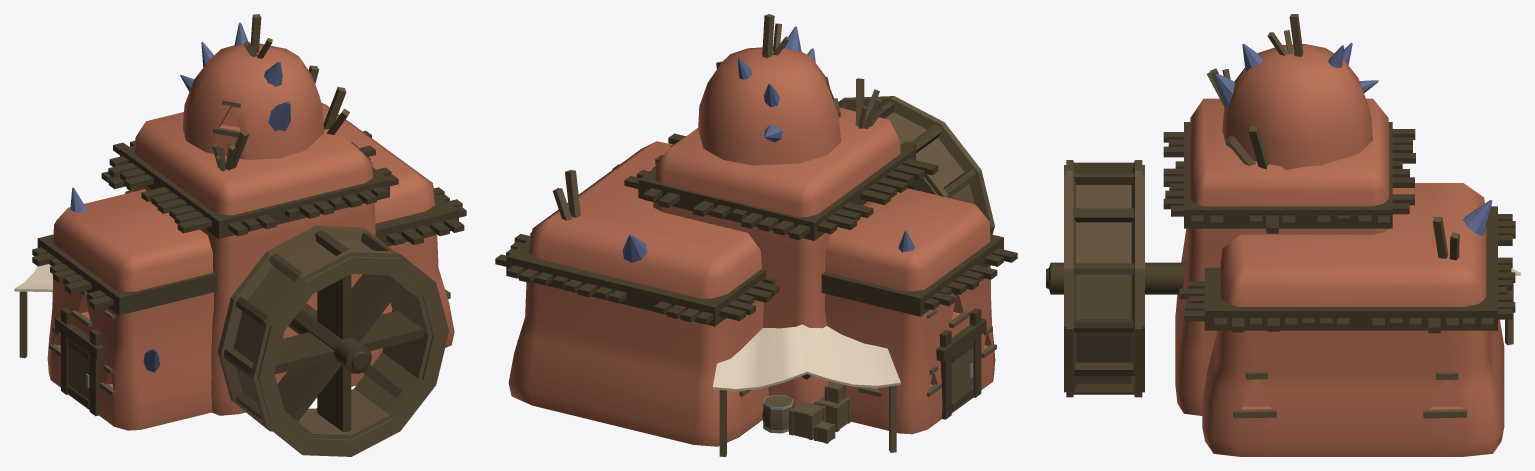
Rendered from Waterwheel.fbx.
The picture shows the model from 3 angles, left to right: view 1: azimuth 30°, elevation 25°; view 2: azimuth 150°, elevation 25°; view 3: azimuth 270°, elevation 25°; orthographic projection. The views are drawn at different scales.
Visible parts, largest first — view 1: Wheel, Main, Main1, Dome, Main2, Crossbeam2, Platform2, Crossbeam1, Platform3, Crossbeam, Platform, Wheel_Axis (+8 smaller); view 2: Main2, Main, Main1, Dome, Cloth, Wheel, Platform, Platform2, Platform3, Barrel, pCube11, pCube8 (+5 smaller); view 3: Main2, Wheel, Main1, Dome, Platform, Platform2, Wheel_Axis, pCube26, pCube69.
Part boxes in pixels (x1,y1,x2,y2): Wheel: (217, 225, 449, 456); Main: (47, 189, 213, 430); Main1: (131, 112, 383, 415); Dome: (182, 43, 324, 159); Main2: (321, 102, 454, 347); Crossbeam2: (277, 274, 402, 421); Platform2: (120, 145, 389, 238); Crossbeam1: (317, 274, 351, 431); Platform3: (37, 234, 217, 315); Crossbeam: (274, 310, 424, 374); Platform: (375, 192, 458, 246); Wheel_Axis: (288, 303, 371, 373); Main2: (508, 141, 768, 446); Main: (825, 188, 995, 434); Main1: (653, 108, 900, 407); Dome: (698, 47, 841, 165); Cloth: (712, 324, 901, 391); Wheel: (838, 96, 994, 234); Platform: (506, 238, 766, 326); Platform2: (638, 144, 915, 240); Platform3: (821, 234, 1003, 316); Barrel: (762, 395, 793, 433); pCube11: (951, 347, 973, 413); pCube8: (936, 318, 986, 361); Main2: (1202, 183, 1504, 456); Wheel: (1064, 160, 1144, 397); Main1: (1175, 98, 1389, 415); Dome: (1222, 44, 1372, 169); Platform: (1204, 206, 1497, 330); Platform2: (1184, 122, 1392, 228); Wheel_Axis: (1046, 262, 1185, 294); pCube26: (1462, 200, 1492, 235); pCube69: (1248, 126, 1268, 169).
Size of the model in its own units: 1219 by 1094 by 1244.
